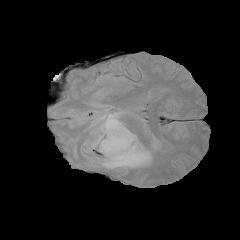glioma: (89, 112, 157, 169)
